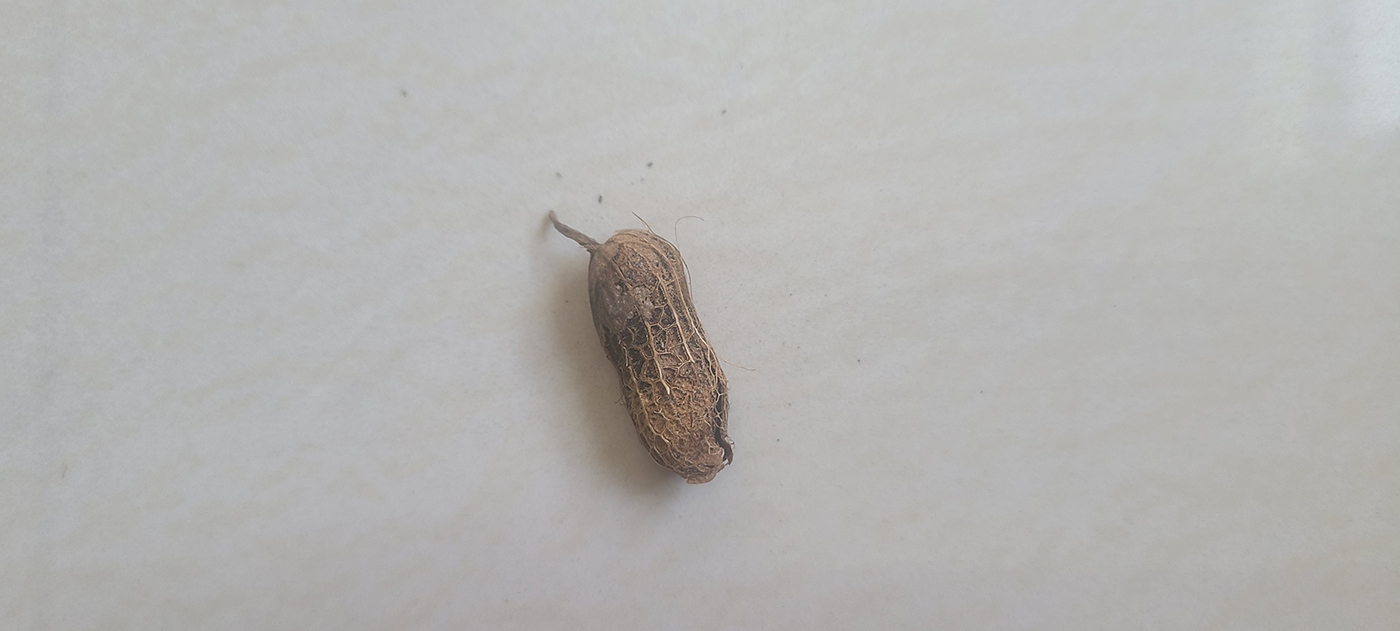l: (586, 231, 736, 482)
